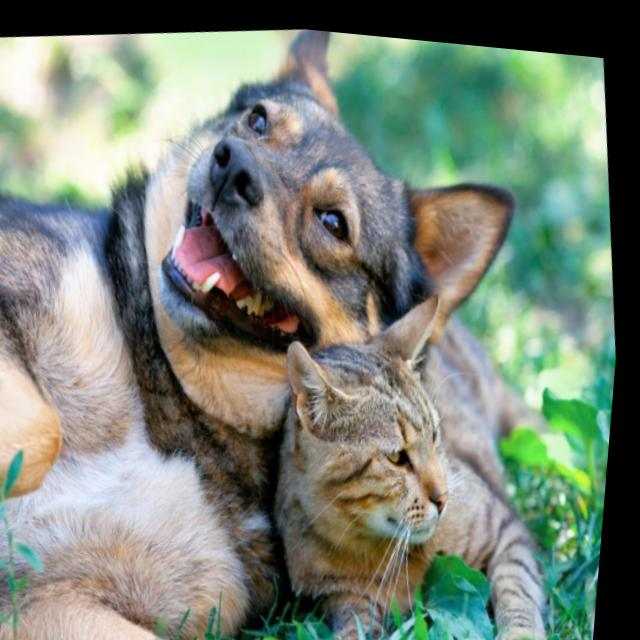Cat: (274, 305, 546, 615)
Dog: (69, 7, 545, 372)
